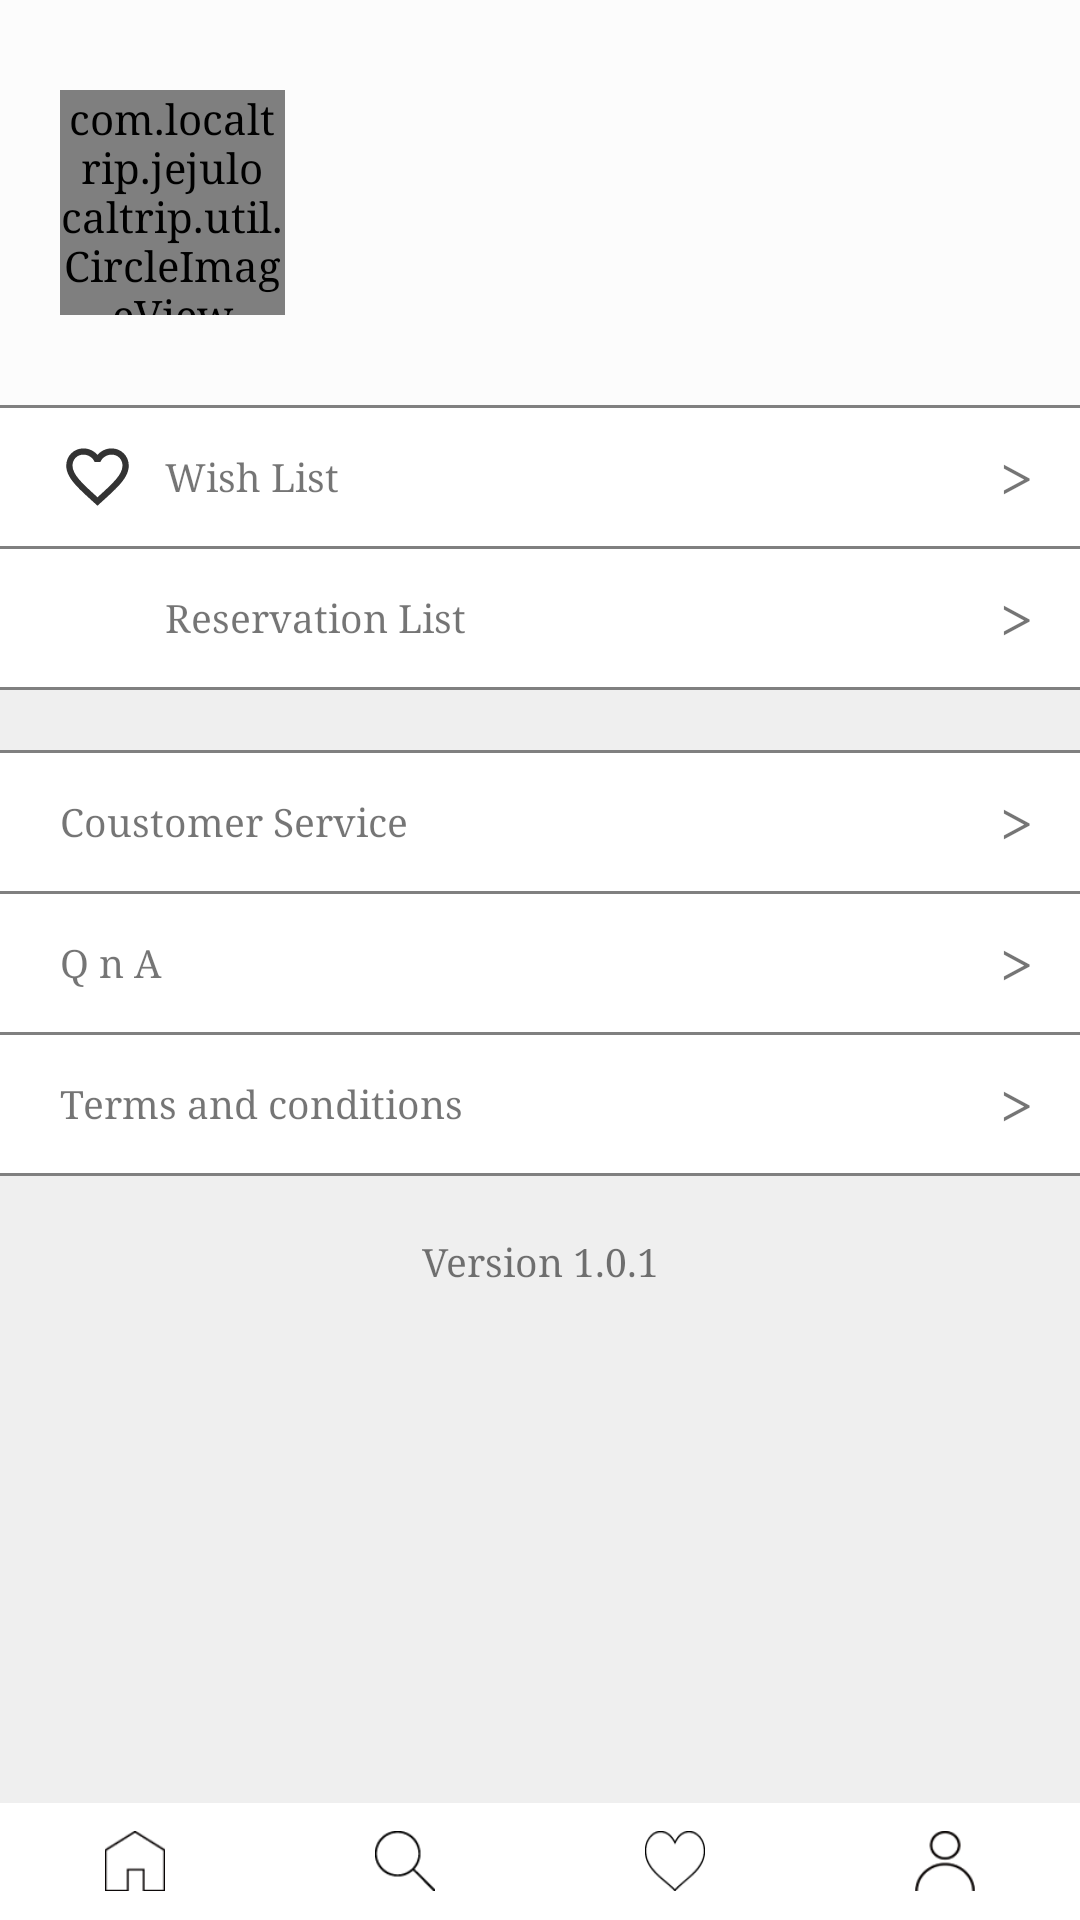

Named icons in this screenshot (1080px x 1920px) and their centers, [x,y]:
home: [135,1861]
mypage: [945,1861]
search: [405,1861]
